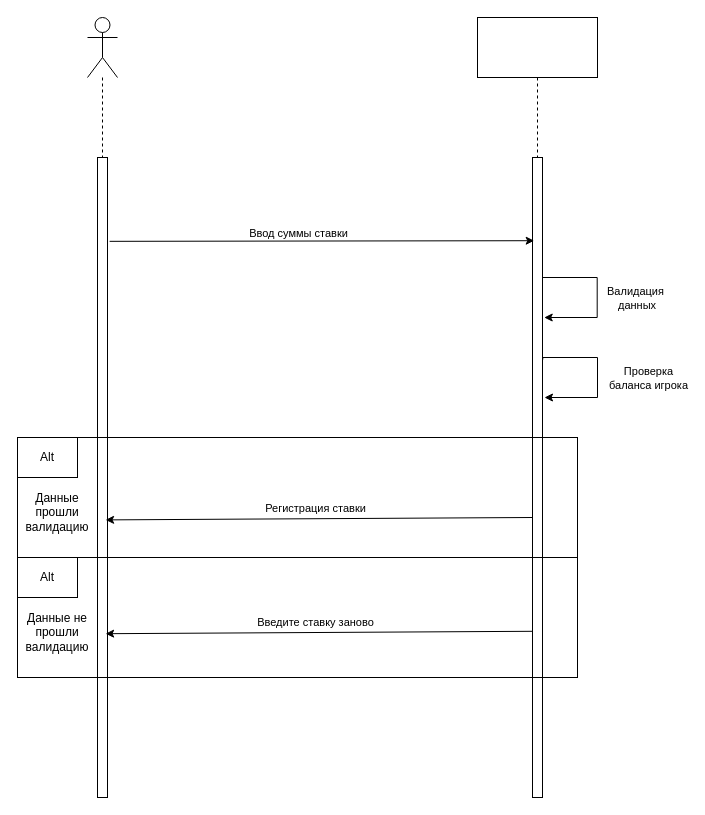
This 705x815 diagram has some shape labels left out. Here are the shapes that lost their labels. From the top down, the centre of each, then its label:
pixel 102 47: Игрок
pixel 537 47: Система
